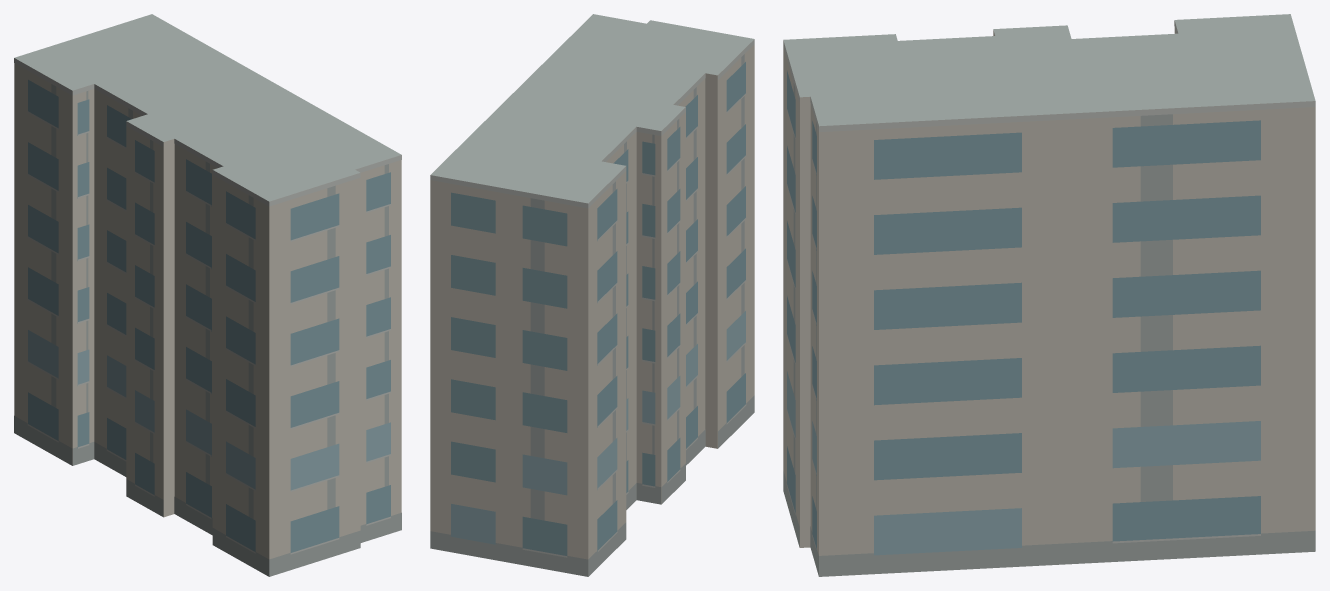
The model's file is survey-upis-32619648.glb.
3 renders of one model, left to right at view 1: azimuth 30°, elevation 25°; view 2: azimuth 150°, elevation 25°; view 3: azimuth 270°, elevation 25°, orthographic. The views are drawn at different scales.
Visible parts, largest first — view 1: survey-upis-32619648.tmp; view 2: survey-upis-32619648.tmp; view 3: survey-upis-32619648.tmp.
Boxes of the visible parts, x1,y1,x2,y2 form: survey-upis-32619648.tmp: (14,14,401,576); survey-upis-32619648.tmp: (430,14,754,576); survey-upis-32619648.tmp: (783,14,1315,576).
Size of the model in its own units: 9.78 by 18.3 by 19.6.
